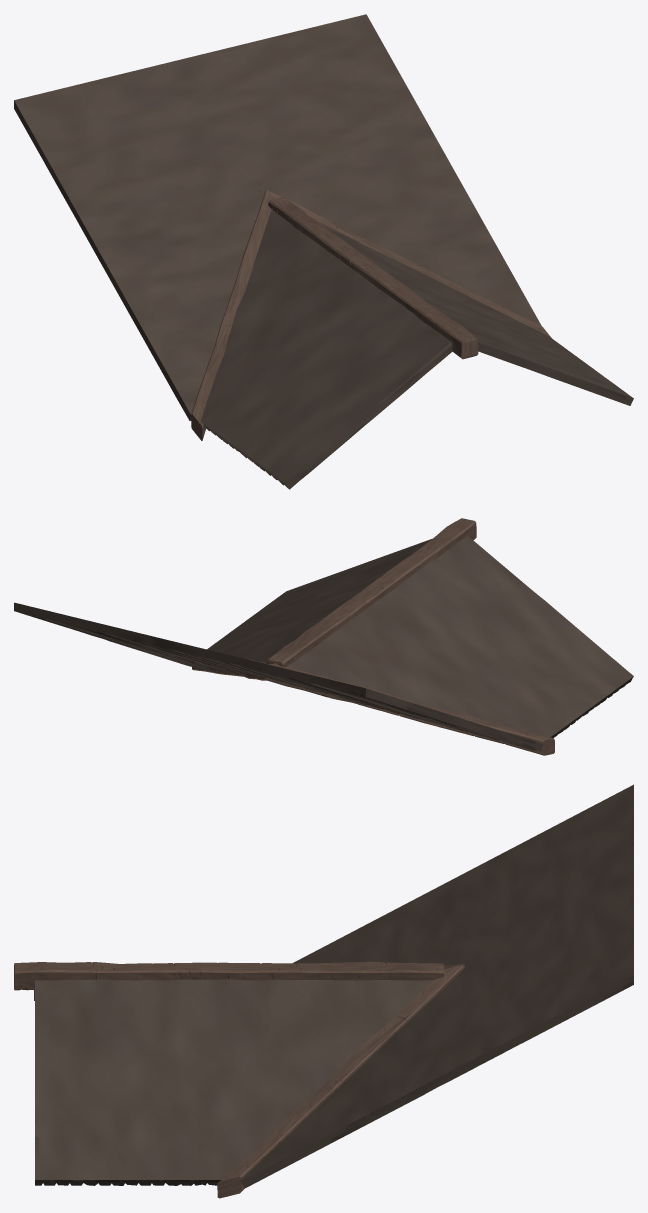
The model's file is roof_room.fbx.
3 renders of one model, top to bottom at view 1: azimuth 30°, elevation 25°; view 2: azimuth 150°, elevation 25°; view 3: azimuth 270°, elevation 25°, orthographic. The views are drawn at different scales.
Visible parts, largest first — view 1: roof.058, PARRU.004; view 2: roof.058, PARRU.004; view 3: roof.058, PARRU.004.
Part boxes in pixels (left/top/right/bottom): roof.058: left=14, top=14, right=633, bottom=489; PARRU.004: left=191, top=190, right=551, bottom=440; roof.058: left=14, top=535, right=633, bottom=751; PARRU.004: left=192, top=518, right=554, bottom=755; roof.058: left=34, top=784, right=633, bottom=1188; PARRU.004: left=14, top=961, right=464, bottom=1198.
Size of the model in its own units: 1055 by 580 by 1447.
Materials: 2 (2 with a texture image).
